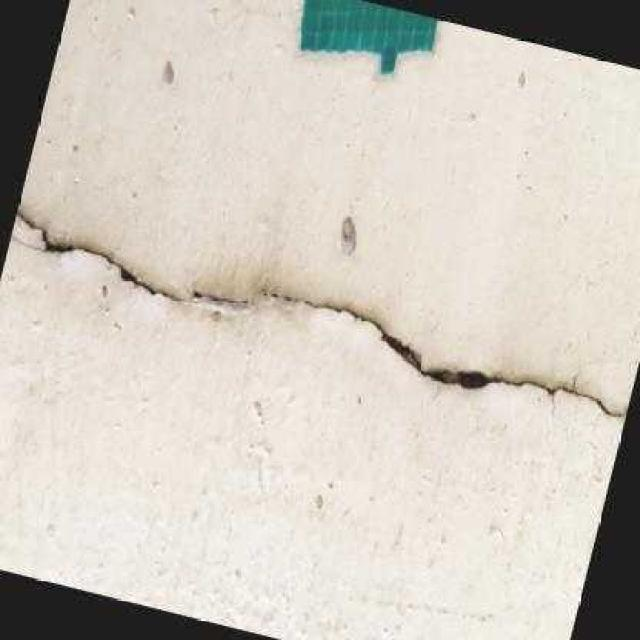D00: (16, 210, 627, 419)
